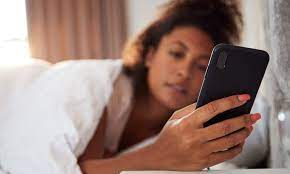Mobile-phone: (195, 43, 270, 127)
